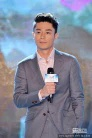male: (28, 13, 67, 70)
